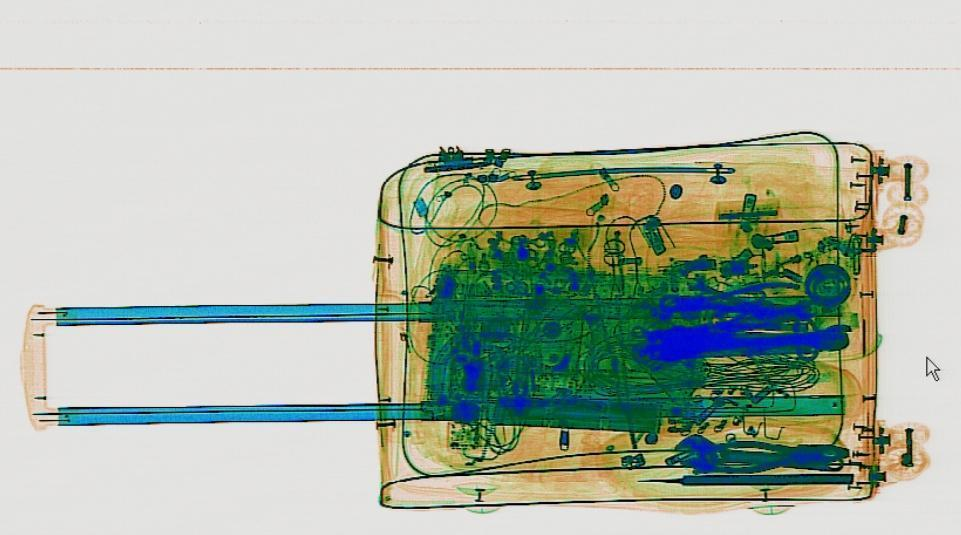Pliers: (690, 438, 849, 473), (671, 280, 809, 318)
Wrench: (664, 430, 851, 484)
